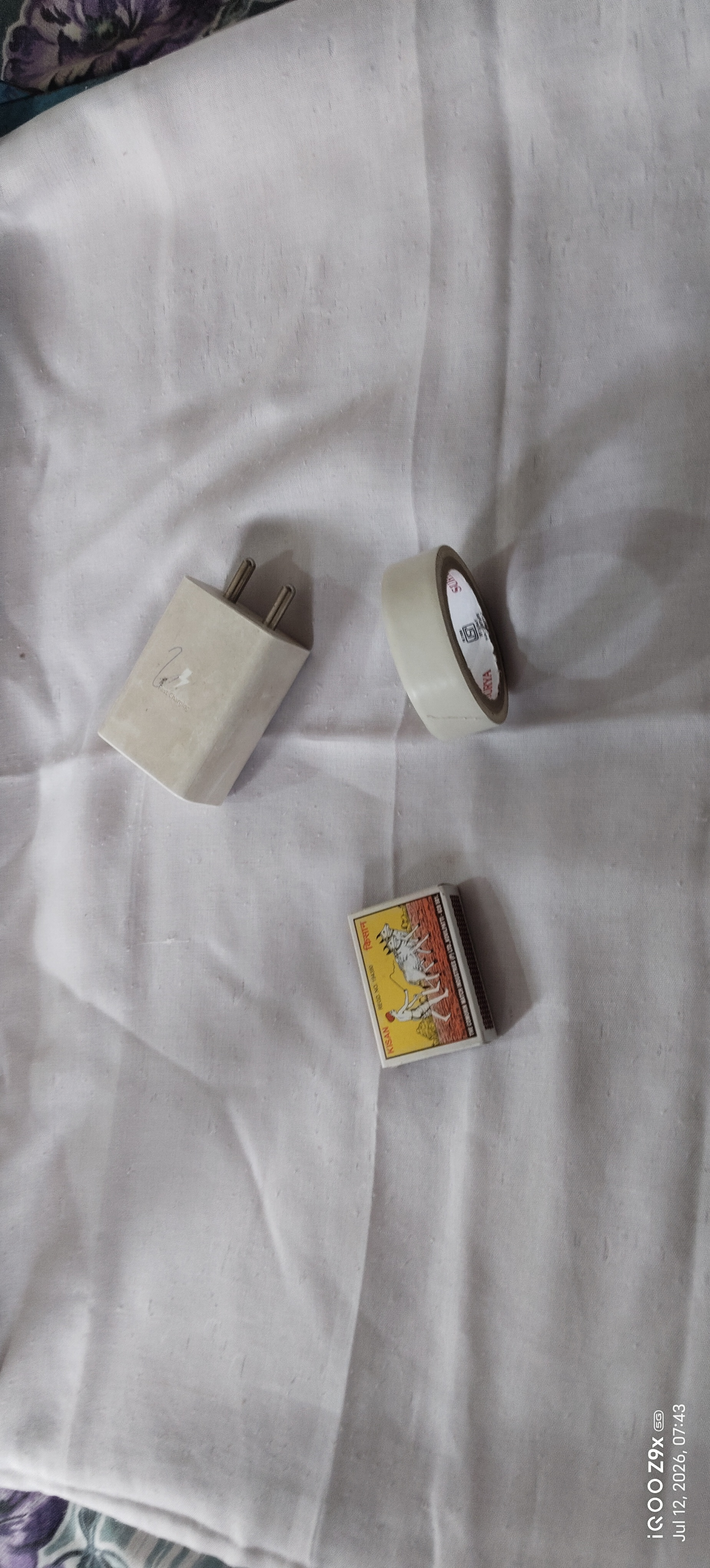charger: (90, 519, 333, 852)
matchbox: (310, 875, 556, 1081)
tape_roll: (348, 516, 545, 777)
